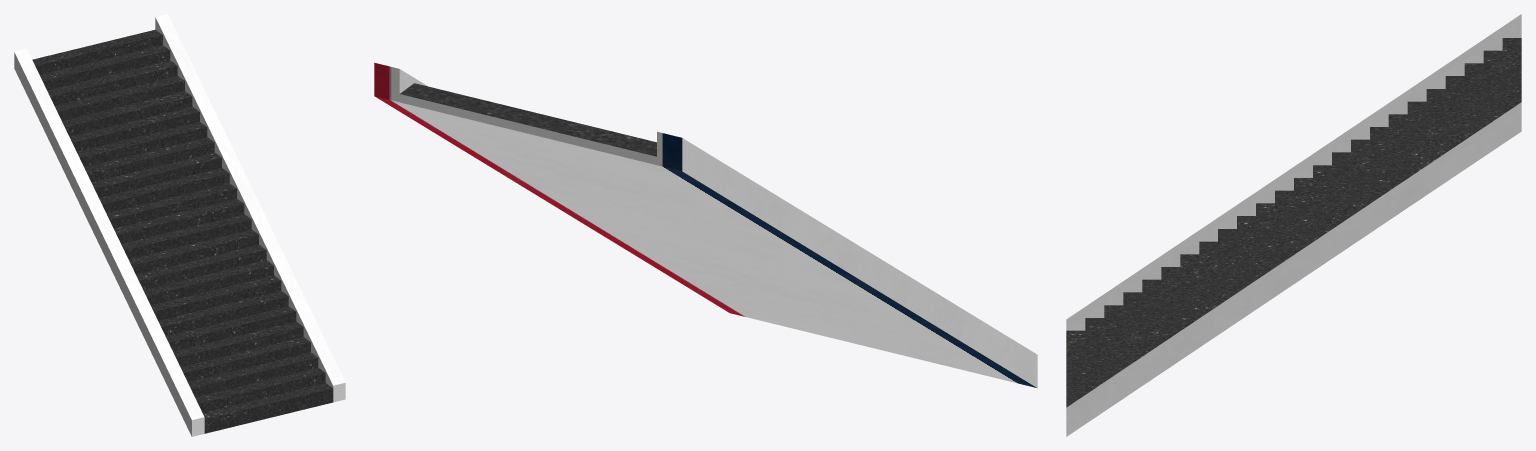
Rendered from Stairs_Mrt.fbx.
The picture shows the model from 3 angles, left to right: view 1: azimuth 30°, elevation 25°; view 2: azimuth 150°, elevation 25°; view 3: azimuth 270°, elevation 25°; orthographic projection. The views are drawn at different scales.
Parts seen in each view (by area): view 1: Stairs; view 2: Stairs; view 3: Stairs.
Boxes of the visible parts, x1,y1,x2,y2 form: Stairs: (14, 14, 345, 436); Stairs: (374, 62, 1037, 388); Stairs: (1066, 14, 1521, 436).
Bounding box in the file's own units: 301 × 477 × 602.
